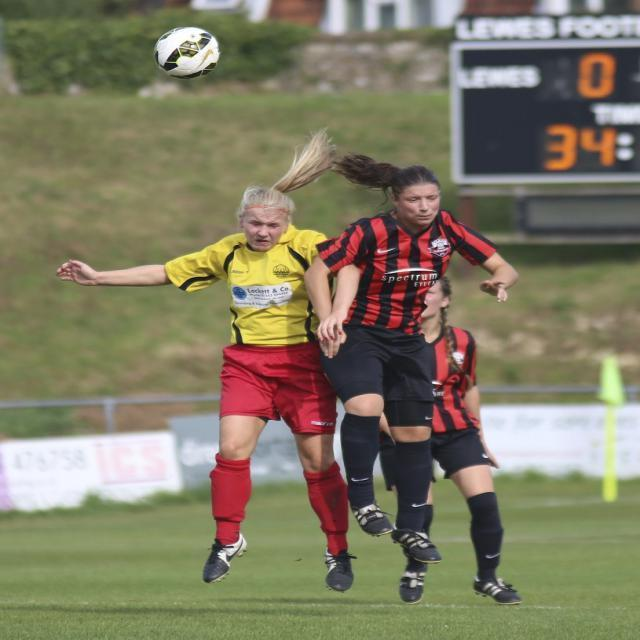ball: (155, 26, 223, 79)
